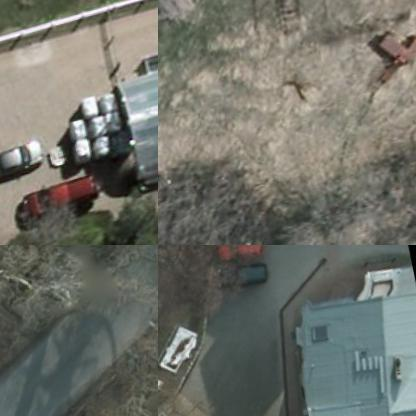car: (211, 258, 271, 300), (0, 139, 44, 187), (209, 245, 264, 268)
pickup: (18, 176, 104, 230)
